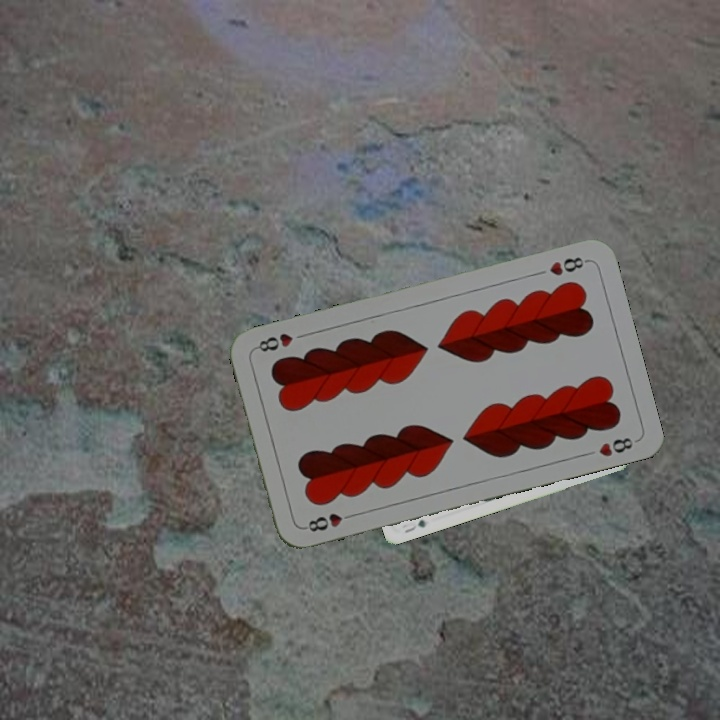GU: (400, 515, 429, 536)
H8: (300, 509, 358, 535), (545, 253, 591, 279)
